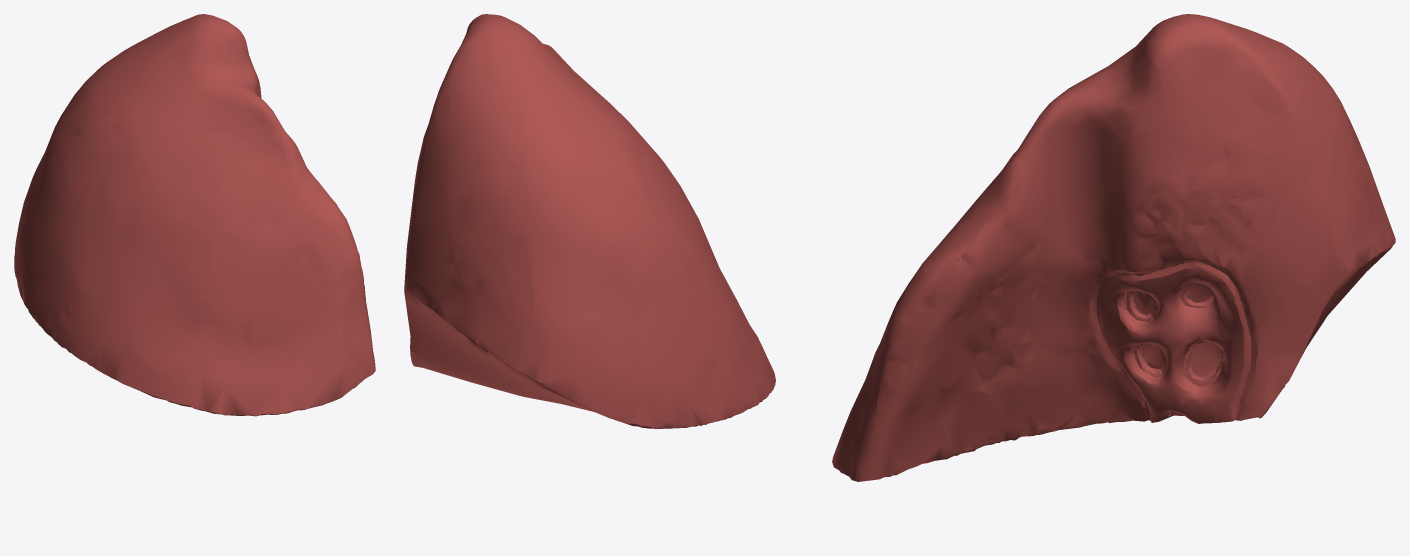
Rendered from lung9.fbx.
3 views of the same model, side by side, from view 1: azimuth 30°, elevation 25°; view 2: azimuth 150°, elevation 25°; view 3: azimuth 270°, elevation 25° (orthographic). The views are drawn at different scales.
Parts seen in each view (by area): view 1: mesh; view 2: mesh; view 3: mesh.
Part boxes in pixels (x1,y1,x2,y2): mesh: (14, 14, 375, 416); mesh: (404, 14, 775, 428); mesh: (832, 14, 1395, 481).
Bounding box in the file's own units: 109 × 189 × 154.
